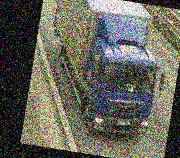truck: (37, 0, 177, 142)
